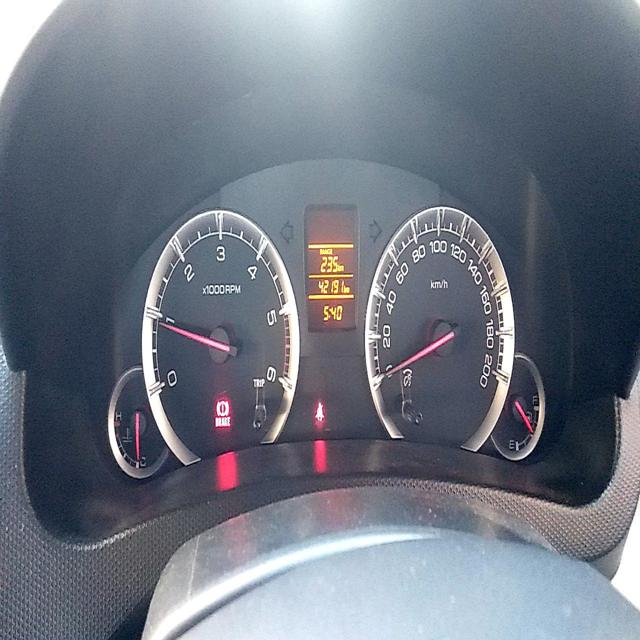odometer: (316, 275, 345, 298)
